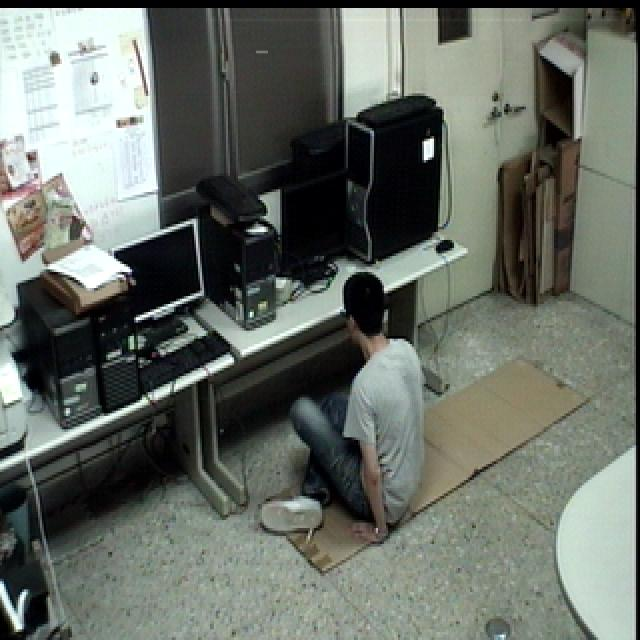sit: (256, 264, 432, 550)
